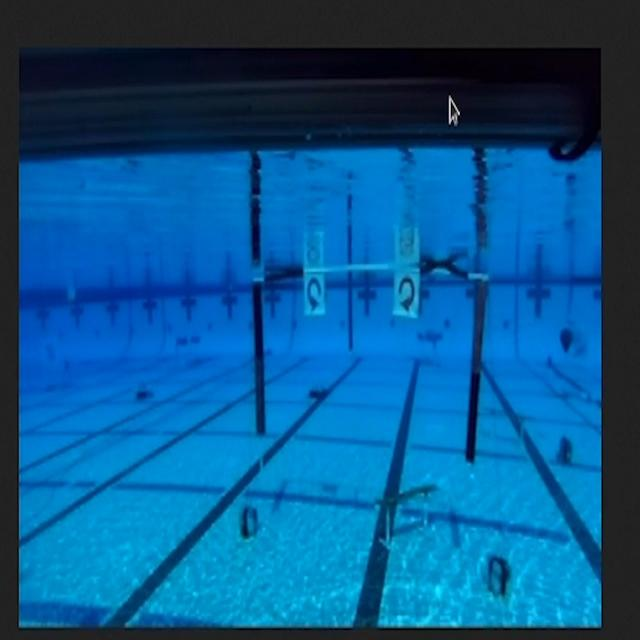Gate: (237, 246, 498, 477)
Path: (368, 478, 450, 553)
